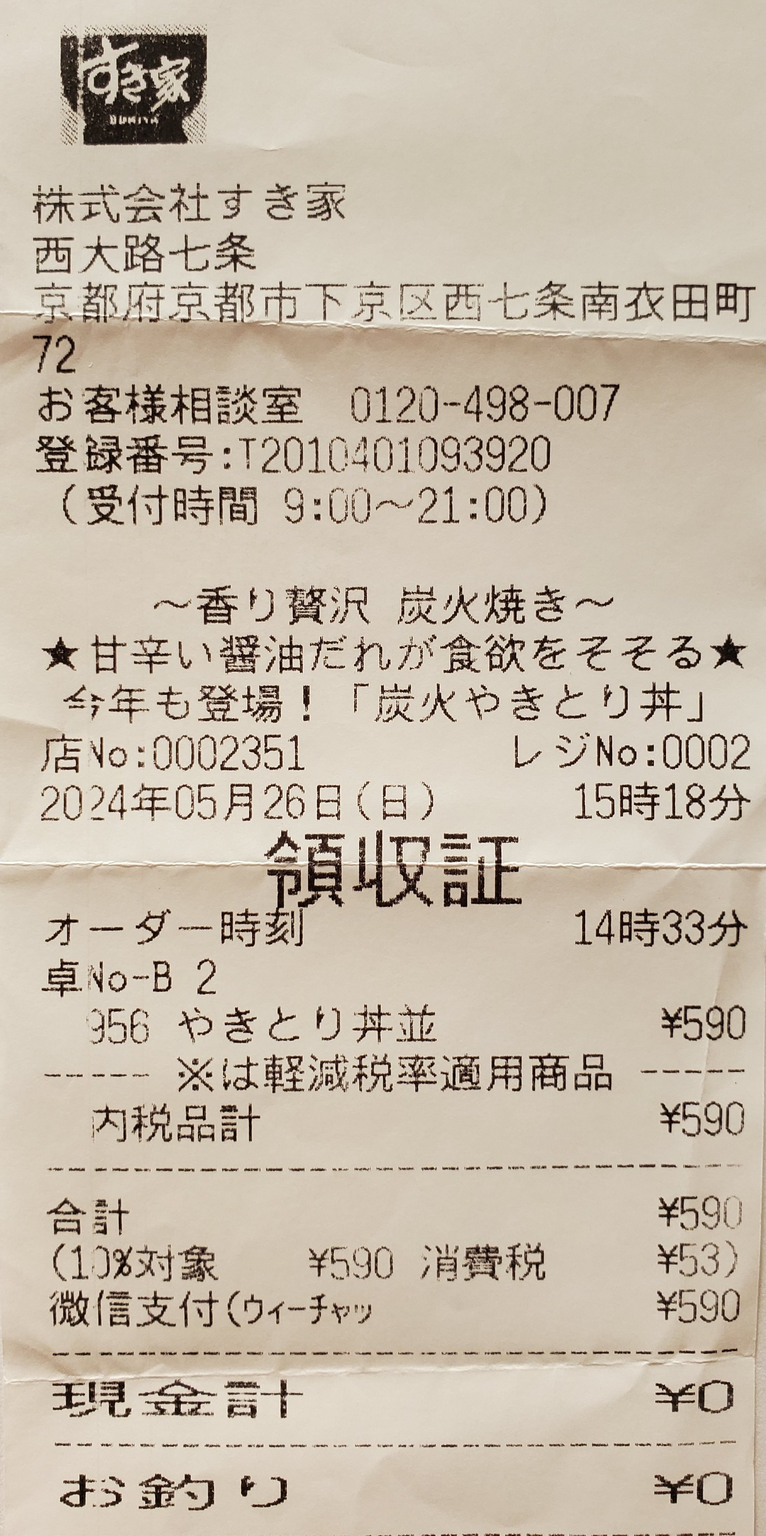Date: (32, 778, 361, 831)
Shopname: (46, 19, 242, 153)
Telnum: (341, 373, 638, 432)
Totalpay: (43, 1183, 757, 1242)
